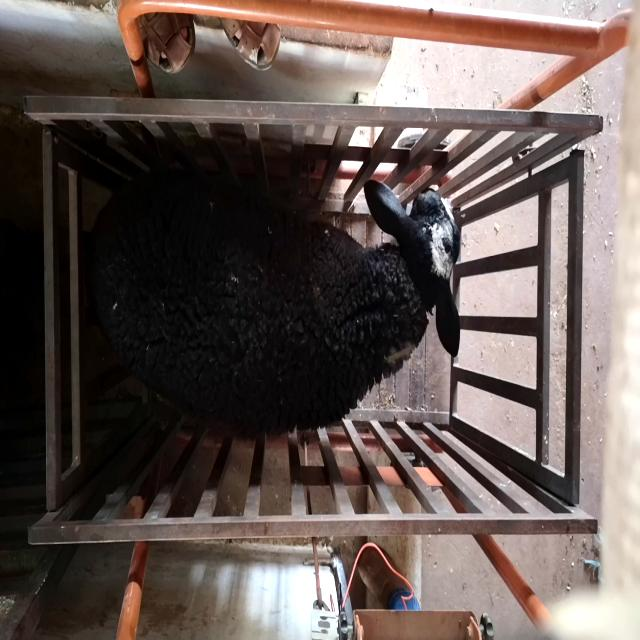sheep: (84, 167, 462, 437)
